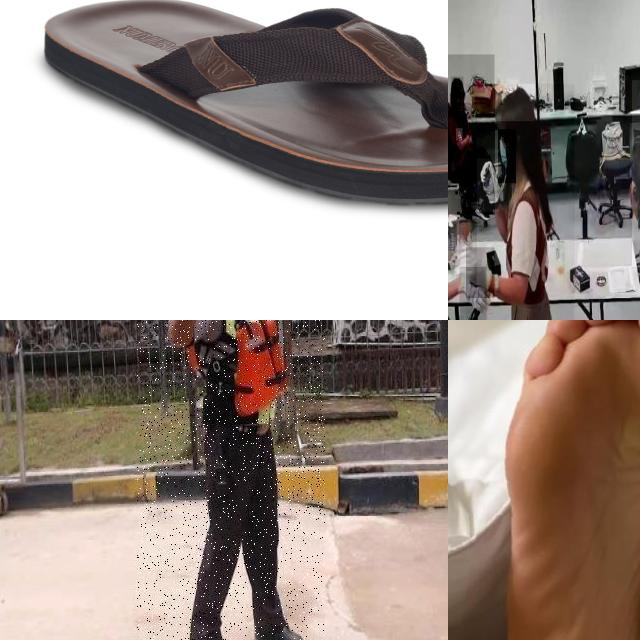Barefoots: (498, 320, 640, 640)
Sandals: (42, 0, 448, 207)
boots: (253, 617, 306, 640)
face_mask: (498, 129, 516, 183)
face_nomask: (454, 91, 464, 107)
hand_glove: (459, 267, 486, 320), (466, 247, 494, 298), (476, 158, 500, 212), (448, 218, 459, 265)
hand_noglove: (456, 128, 463, 142), (465, 128, 471, 142)
head_nohelmet: (496, 84, 536, 122), (451, 77, 464, 89)
person: (136, 320, 325, 640), (466, 83, 575, 320), (448, 54, 495, 214)
vest: (198, 320, 285, 431)
